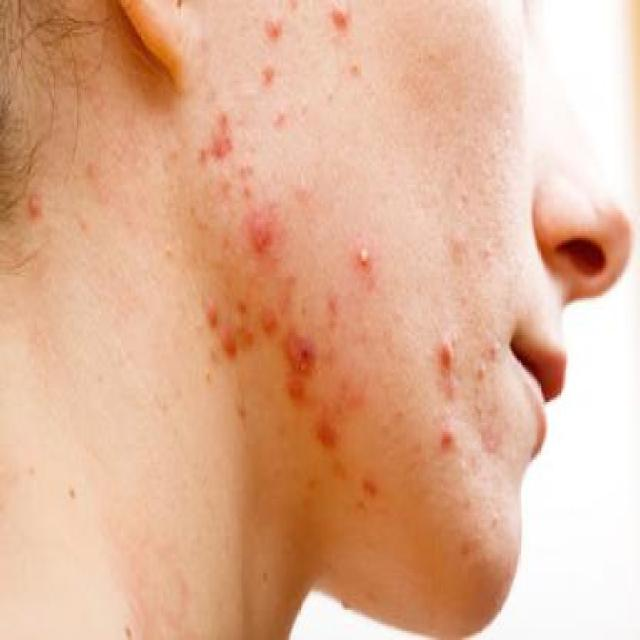dark spot: (190, 97, 232, 173), (218, 317, 258, 365), (304, 407, 344, 455), (277, 374, 312, 414), (257, 298, 281, 342), (230, 390, 256, 428), (197, 293, 225, 326), (320, 289, 346, 323), (226, 289, 249, 319)
papules: (242, 201, 283, 256), (320, 0, 354, 25), (434, 344, 457, 377), (266, 9, 286, 46), (432, 425, 460, 451), (24, 190, 48, 220), (262, 53, 282, 86)
pustules: (357, 238, 383, 273)
whiteheads: (346, 58, 365, 78), (325, 81, 340, 104), (472, 360, 490, 379), (298, 92, 312, 116), (488, 508, 500, 532)
